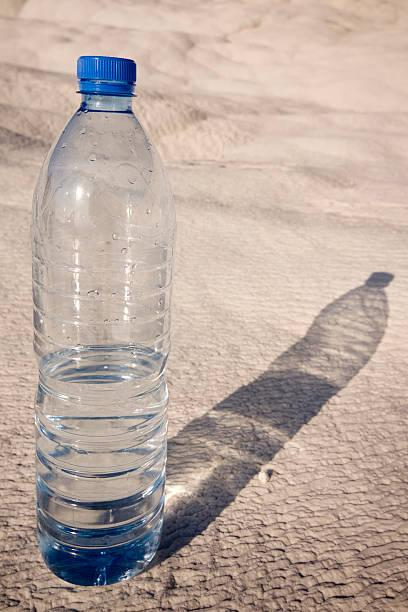plastic_bottle: (19, 54, 179, 588)
